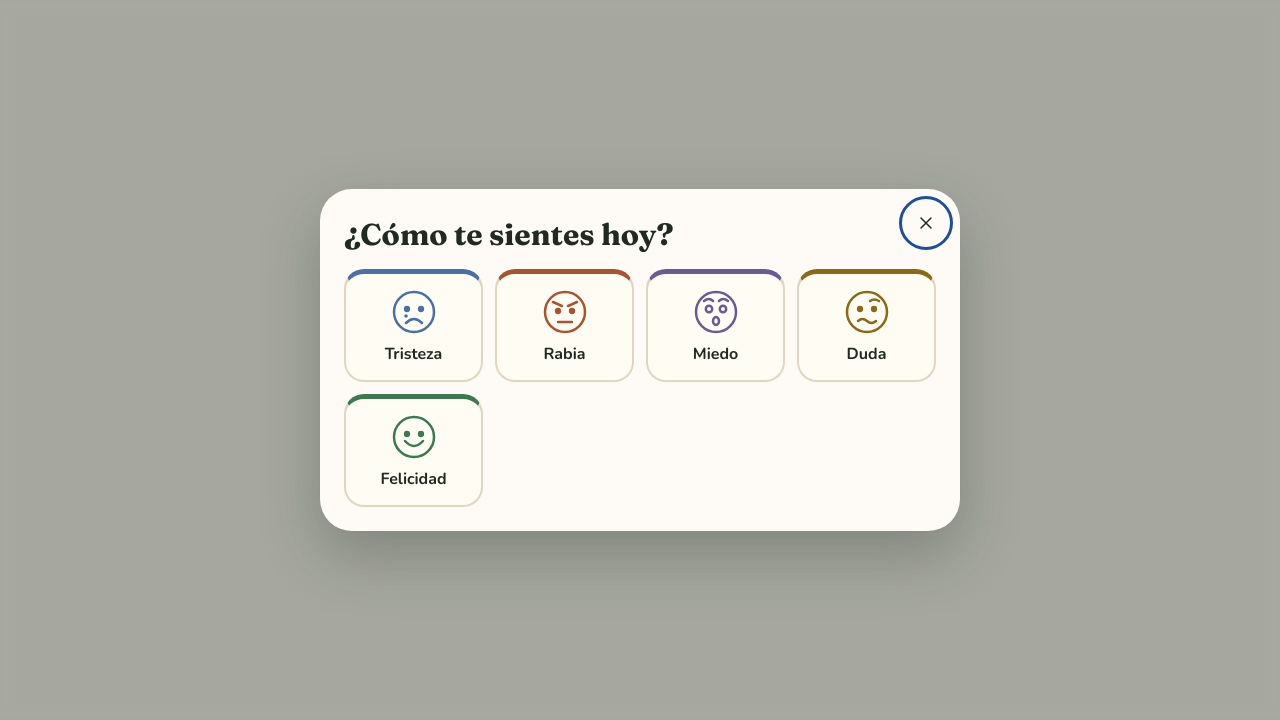
Test case: FlujoDesahogo › HU-06: el mensaje de apoyo › al guardar envía la emoción y el texto y muestra el mensaje de la API en una ventana propia
Click the button "Duda" at (866, 326), box [797,269,936,382]
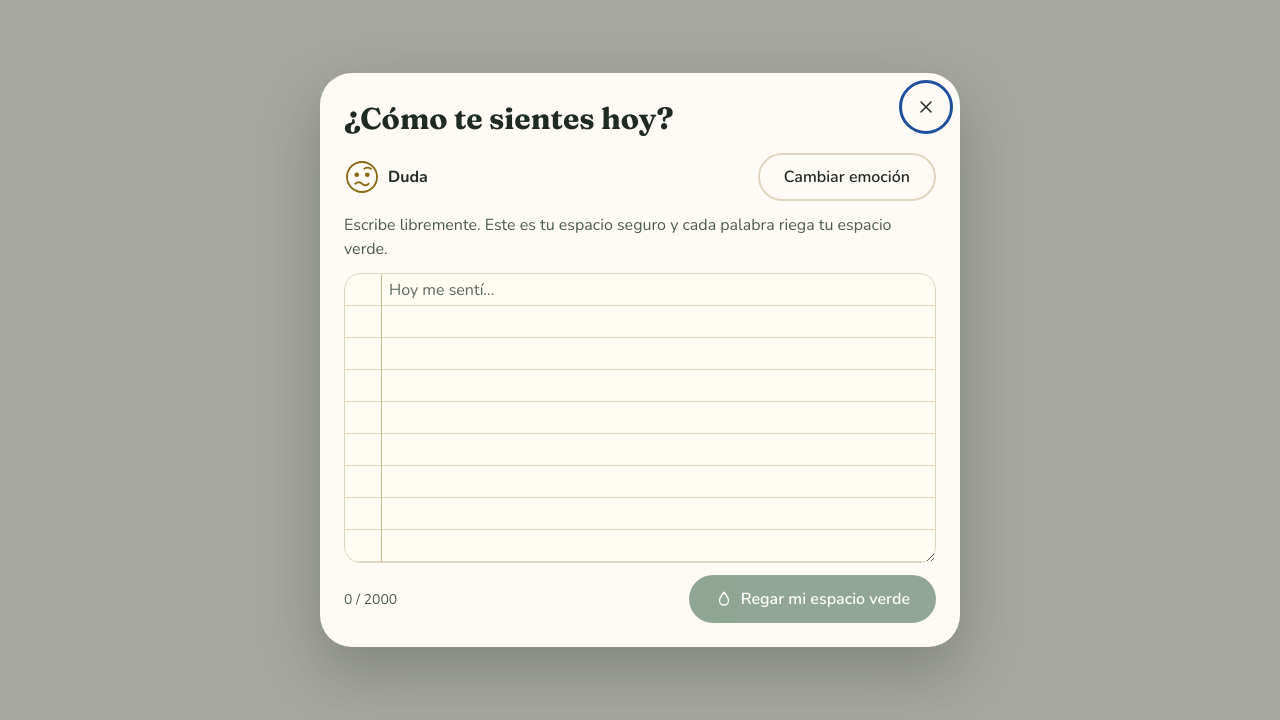
Type "no sé qué hacer" into the text box named "Escribe lo que sientes" at (640, 418), box [344,273,936,563]
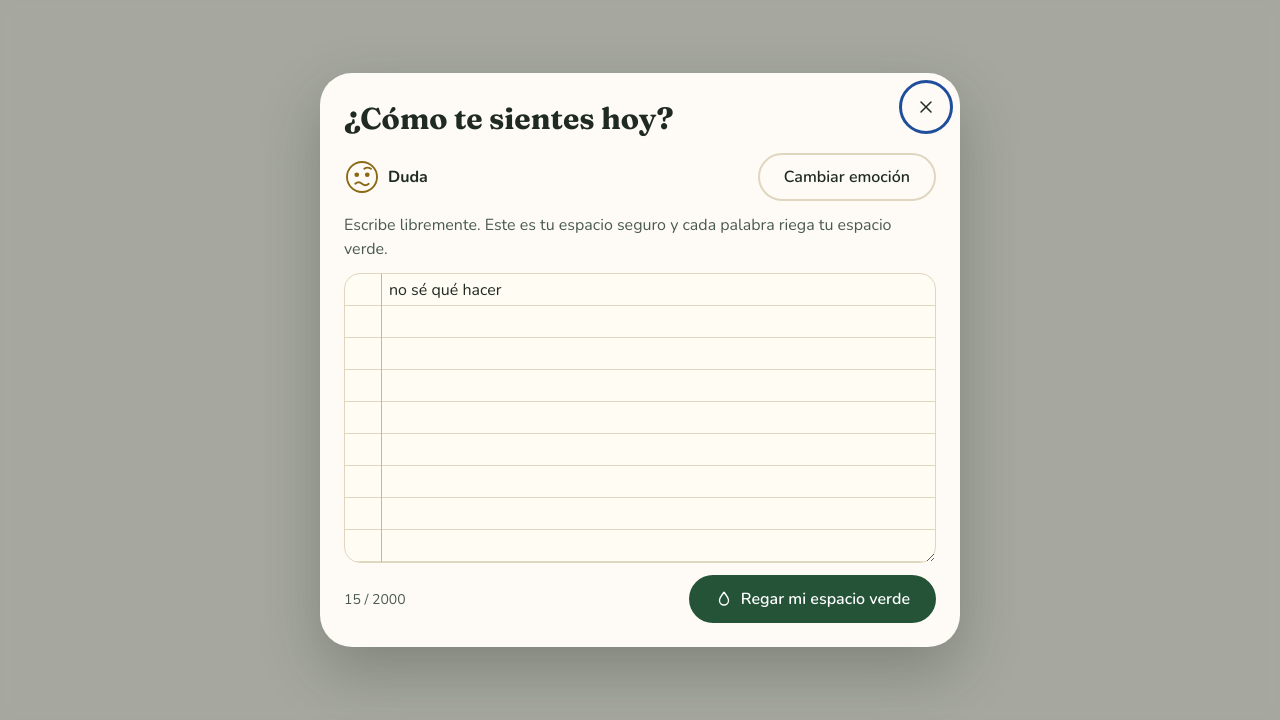
Click the button "Regar mi espacio verde" at (812, 599), box [689,575,936,623]
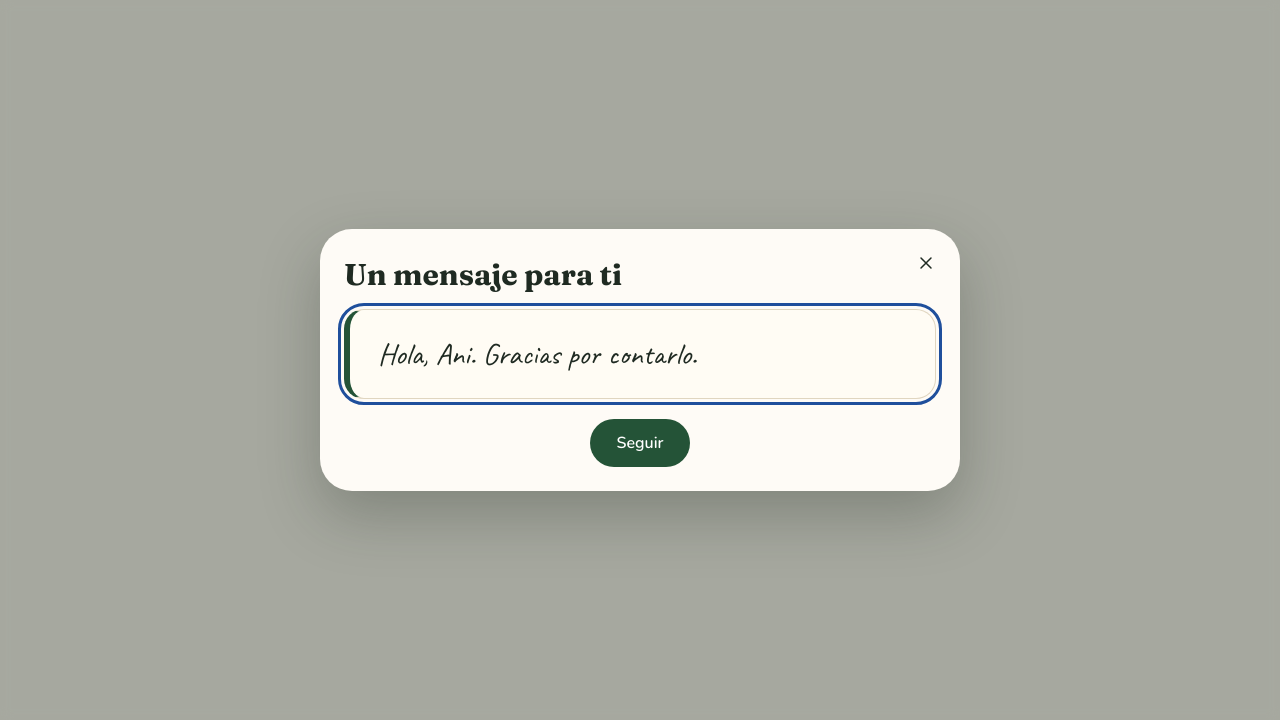
Check: the text "Hola, Ani. Gracias por contarlo." is shown, box [378,335,697,373]
